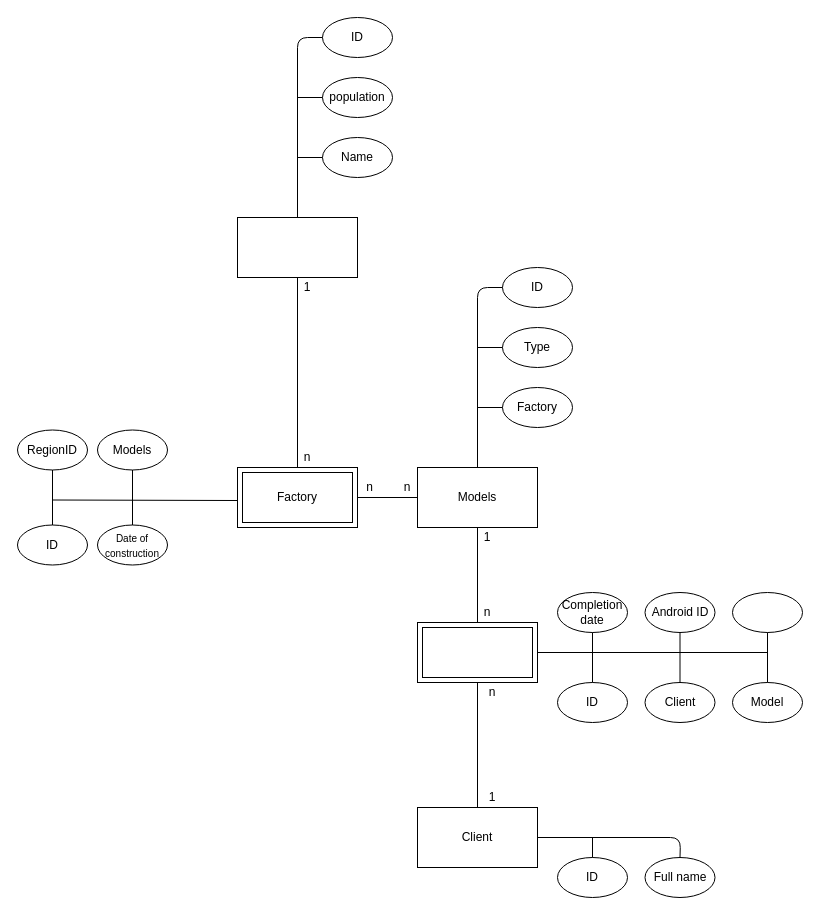
This 820x915 diagram has some shape labels left out. The shapes that lost their labels are listed below. From the top down, each one's centre as x and y in pixels, then its label:
the point at 297,247: Region
the point at 767,612: Date of receiving
the point at 477,652: OrderInfo
